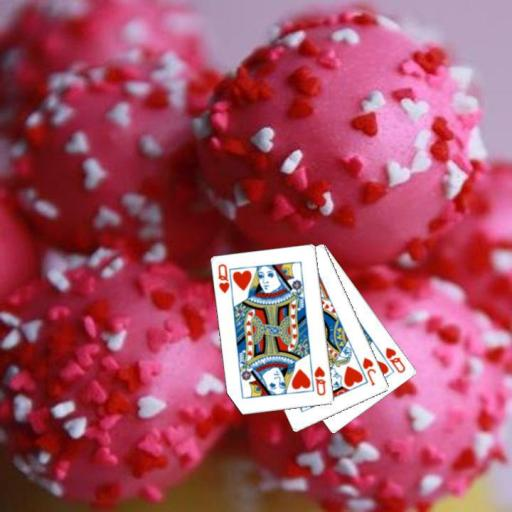JH: (360, 354, 378, 388)
QH: (383, 344, 408, 375), (215, 261, 235, 298), (312, 364, 327, 398)
